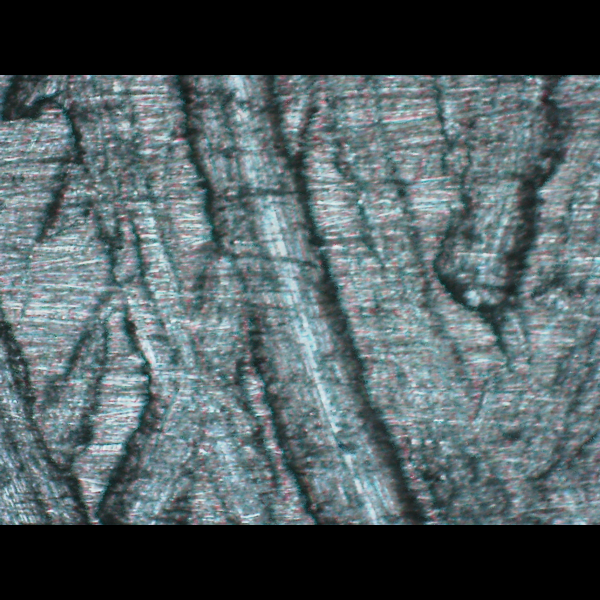d: (0, 74, 431, 521), (399, 106, 599, 360)
